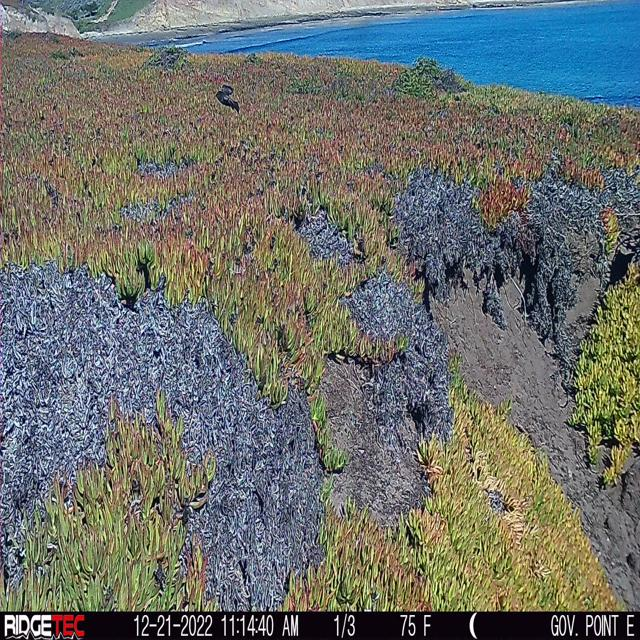bird: (214, 85, 241, 114)
